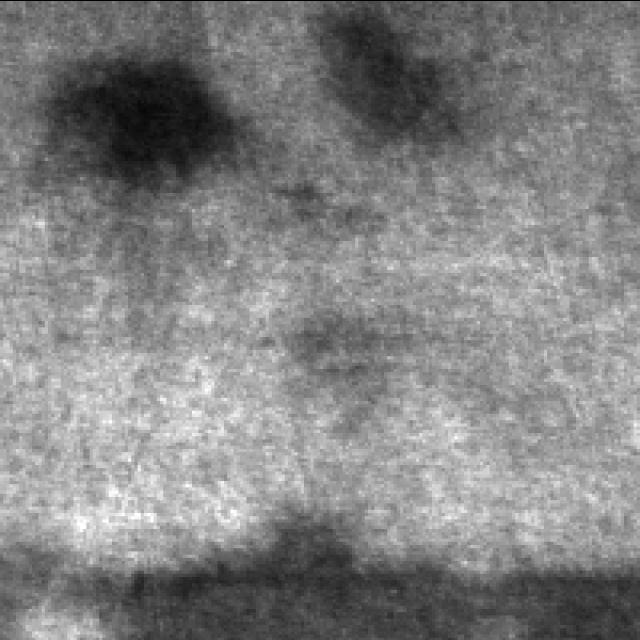patches: (93, 528, 640, 640), (28, 66, 242, 202), (300, 0, 454, 138)
